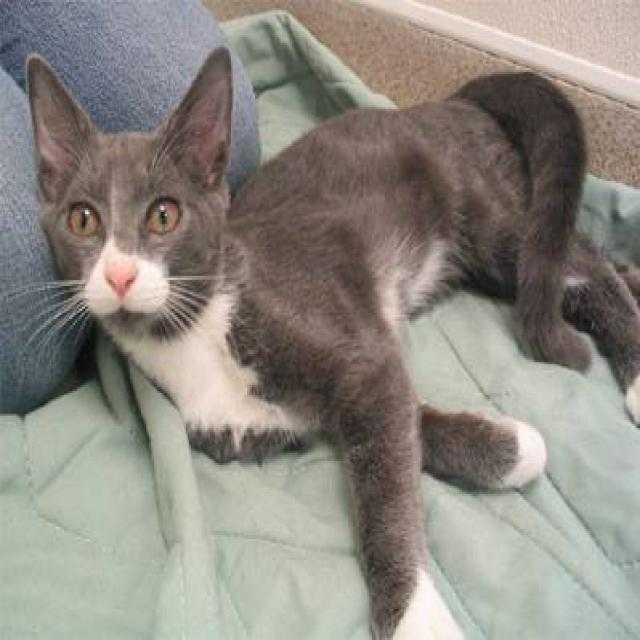cat: (8, 43, 638, 638)
